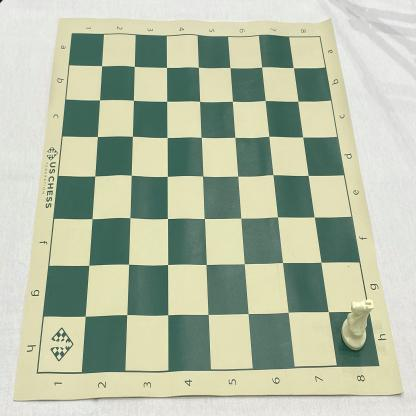white-knight: (340, 298, 374, 352)
